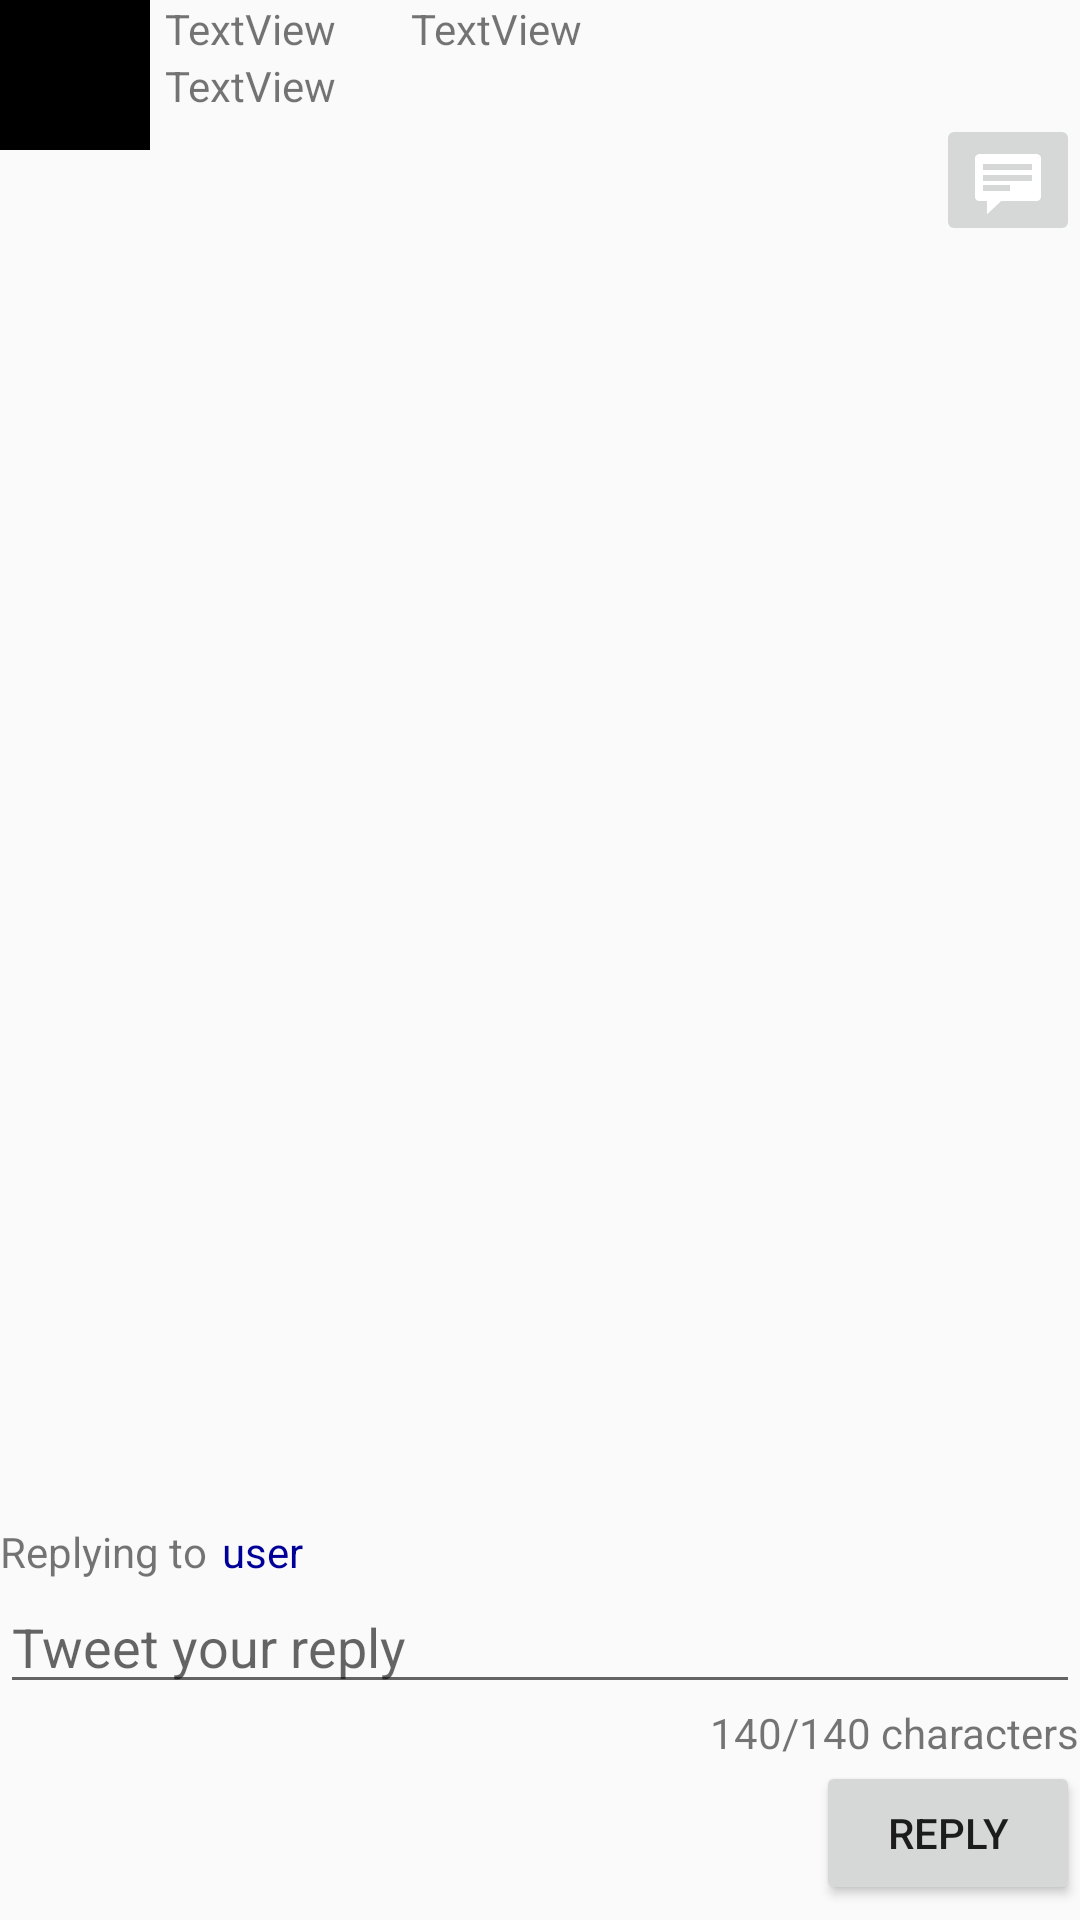

Icons on this 1080 x 1920 Android screen, each with its box as detection(x1, y1, x2, y2):
chat: detection(948, 132, 1068, 228)
